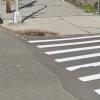Crosswalk: (27, 29, 100, 73)
